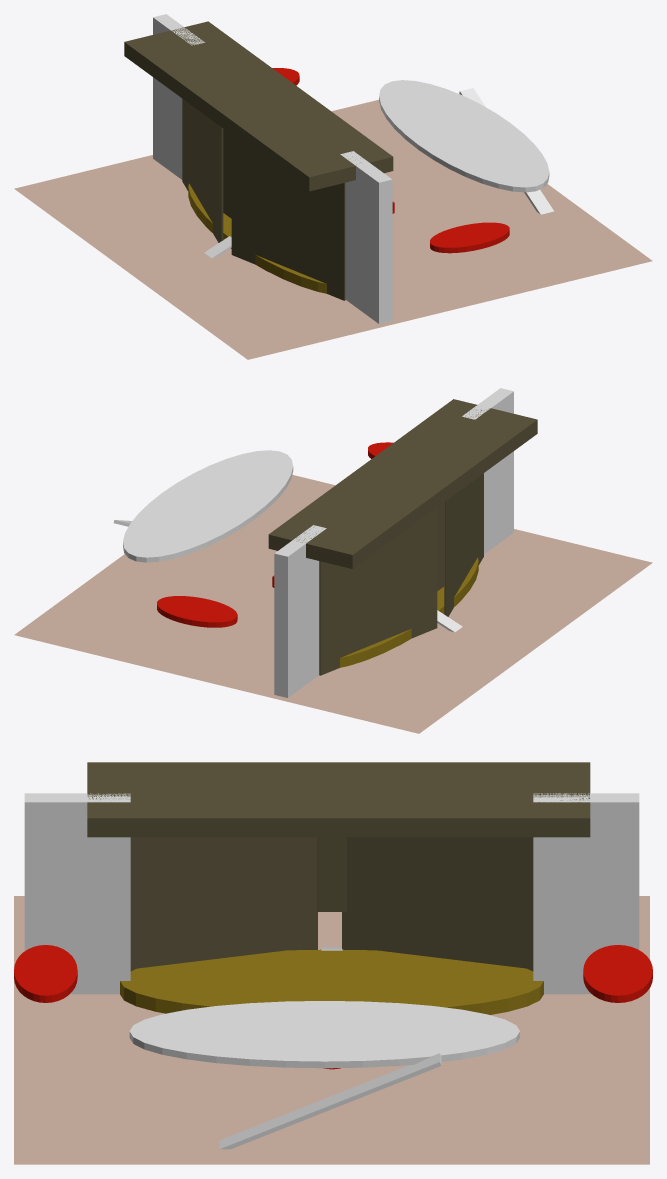
Rendered from theater.dae.
3 renders of one model, top to bottom at view 1: azimuth 30°, elevation 25°; view 2: azimuth 150°, elevation 25°; view 3: azimuth 270°, elevation 25°, orthographic. The views are drawn at different scales.
Visible parts, largest first — view 1: floor, Cube_002, Cube_005, balcony, Cube_001, Cube_003, Cube, leftBooth, stage, Cube_007, Cube_006; view 2: floor, Cube_002, Cube_003, balcony, Cube, Cube_005, Cube_001, rightBooth, stage, Cube_007; view 3: floor, Cube_002, Cube_005, Cube_003, balcony, stage, Cube_001, Cube, rightBooth, Cube_006, leftBooth, Cube_007.
Boxes of the visible parts, bbox=[...] form: floor: bbox=[14, 99, 652, 359]; Cube_002: bbox=[124, 21, 393, 191]; Cube_005: bbox=[231, 113, 345, 300]; balcony: bbox=[379, 80, 549, 192]; Cube_001: bbox=[340, 151, 392, 323]; Cube_003: bbox=[182, 65, 223, 242]; Cube: bbox=[153, 14, 204, 179]; leftBooth: bbox=[430, 222, 509, 253]; stage: bbox=[188, 183, 326, 293]; Cube_007: bbox=[223, 129, 231, 218]; Cube_006: bbox=[459, 88, 553, 214]; floor: bbox=[14, 475, 652, 733]; Cube_002: bbox=[268, 399, 537, 568]; Cube_003: bbox=[319, 486, 437, 675]; balcony: bbox=[123, 450, 293, 562]; Cube: bbox=[274, 525, 326, 697]; Cube_005: bbox=[444, 415, 483, 616]; Cube_001: bbox=[462, 388, 513, 554]; rightBooth: bbox=[157, 596, 237, 627]; stage: bbox=[340, 557, 478, 667]; Cube_007: bbox=[437, 502, 444, 590]; floor: bbox=[14, 896, 649, 1164]; Cube_002: bbox=[87, 762, 590, 837]; Cube_005: bbox=[113, 767, 317, 971]; Cube_003: bbox=[342, 767, 537, 971]; balcony: bbox=[129, 1001, 519, 1068]; stage: bbox=[120, 949, 543, 1014]; Cube_001: bbox=[24, 793, 130, 994]; Cube: bbox=[533, 793, 639, 994]; rightBooth: bbox=[583, 945, 652, 1002]; Cube_006: bbox=[219, 1053, 441, 1149]; leftBooth: bbox=[14, 945, 77, 1002]; Cube_007: bbox=[316, 837, 346, 911].
Size of the model in its own units: 60 by 60.29 by 21.
